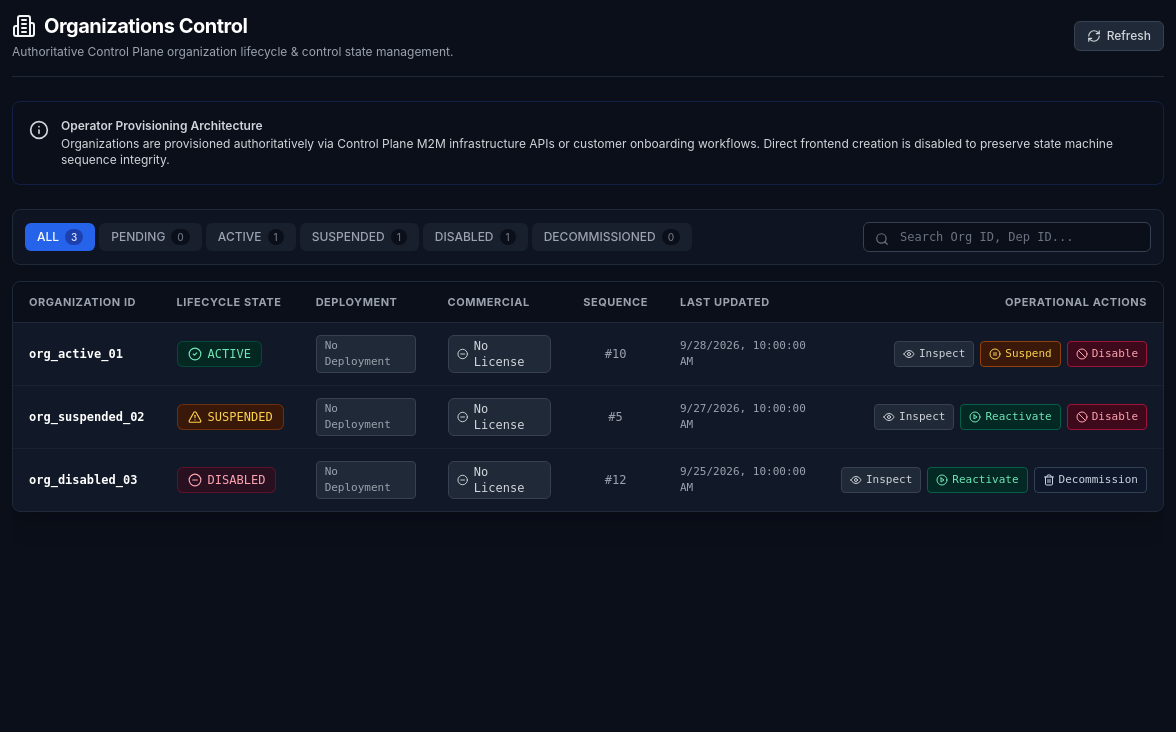
it: CP-6.2 Organizations UI & Lifecycle Control › Organization List Page (/organizations) › 5. should filter organizations using lifecycle state tab filters
Check: the text "org_active_01" is shown, box [29,346,123,362]
Note: Click SUSPENDED tab
Click the button "SUSPENDED 1" at (359, 237), box [300,223,419,251]
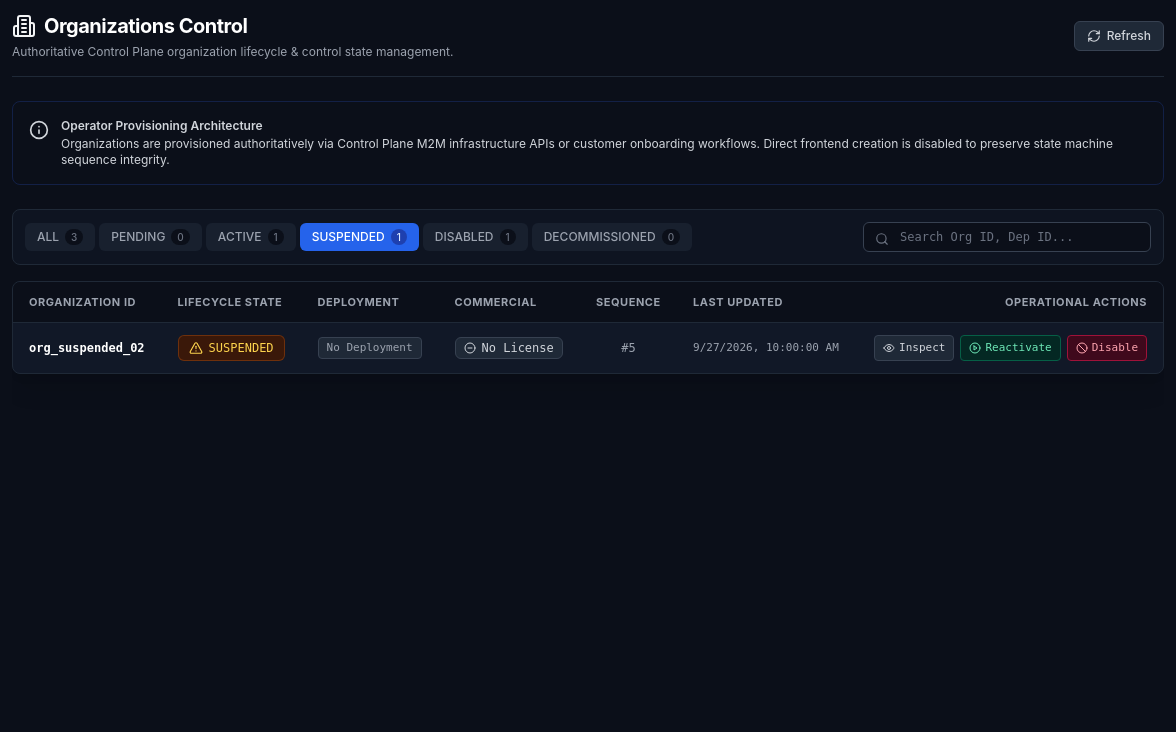
Check: the text "org_suspended_02" is shown, box [29,340,145,356]
Check: the link "org_active_01" is gone
Check: the link "org_disabled_03" is gone
